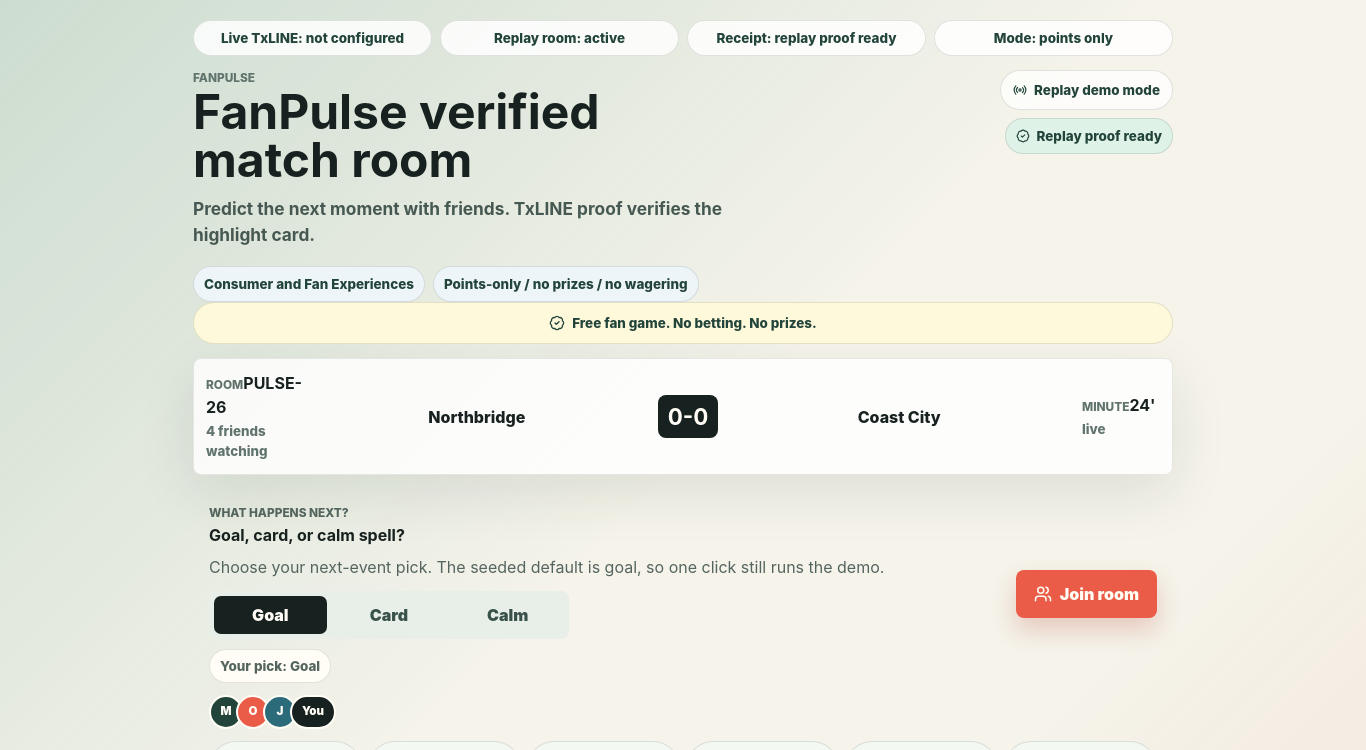
Test: FanPulse app › lets a judge choose a pick, join, and see the instant verified reveal
What coordinates should you click on to do the following:
click the button "Card"
I would click on:
 (389, 615)
Its box is top-left (333, 596), bottom-right (445, 634).
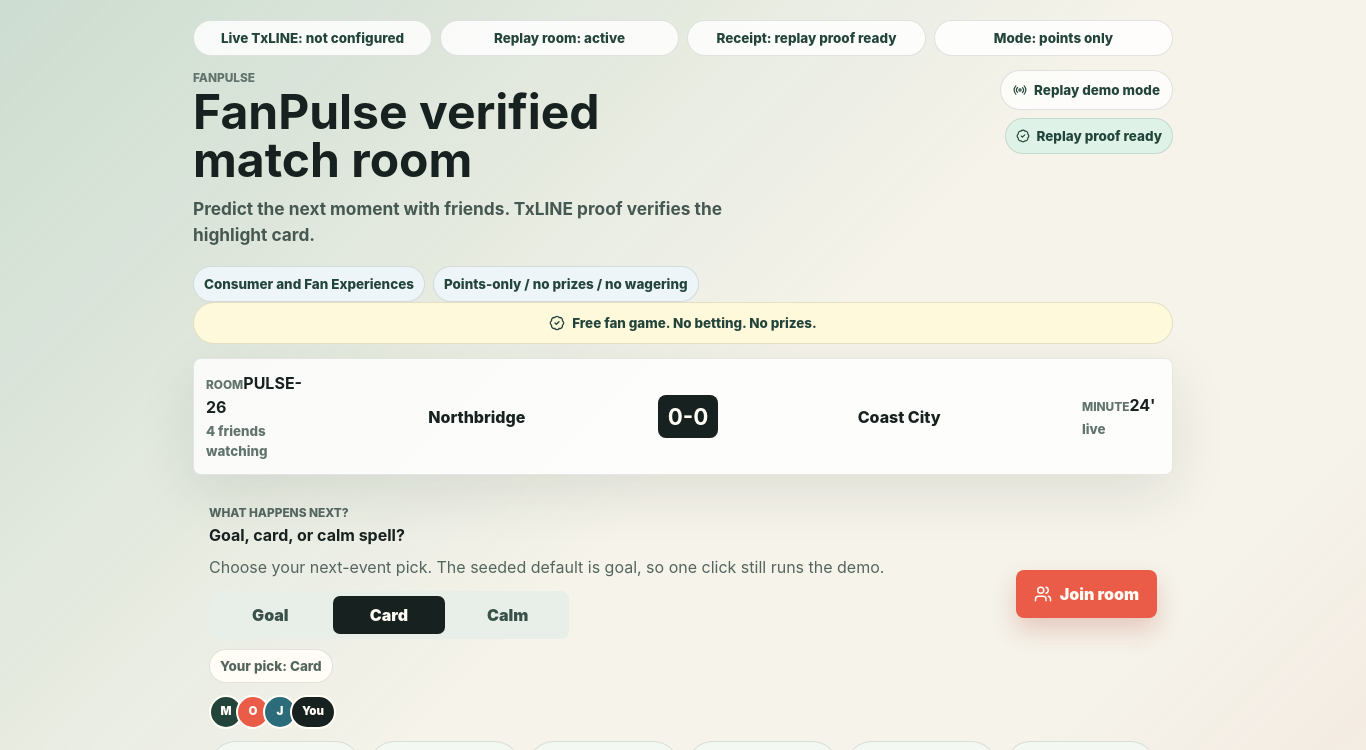
Now the button "Card" is pressed, box top-left (333, 596), bottom-right (445, 634)
What coordinates should you click on to do the following:
click the button "Join room"
I would click on:
 (1086, 594)
Its box is top-left (1016, 570), bottom-right (1157, 618).
Wait 2500 ms
(page scrolled)
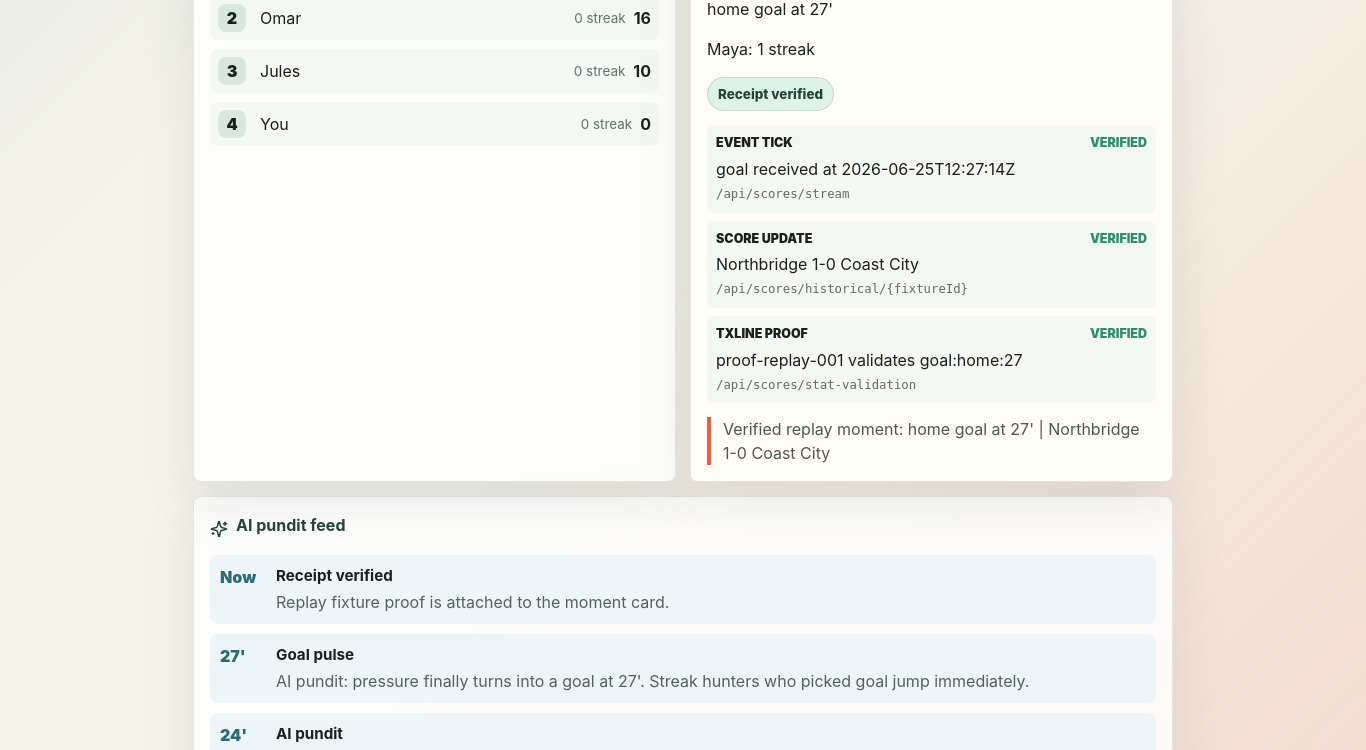
Expected: the text "Verified replay moment" is shown, top-left (723, 419), bottom-right (1140, 463)
Now the text "You" is shown, box top-left (260, 114), bottom-right (289, 134)
Now the text "0" is shown, box top-left (640, 112), bottom-right (651, 136)
